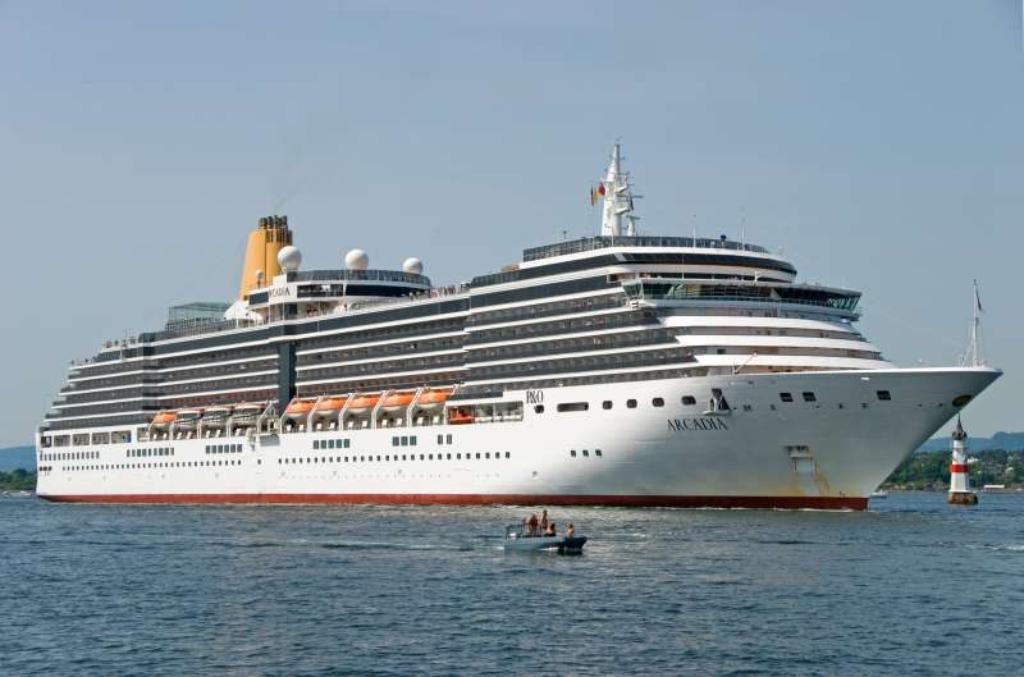PassengerShip: (42, 141, 988, 521)
